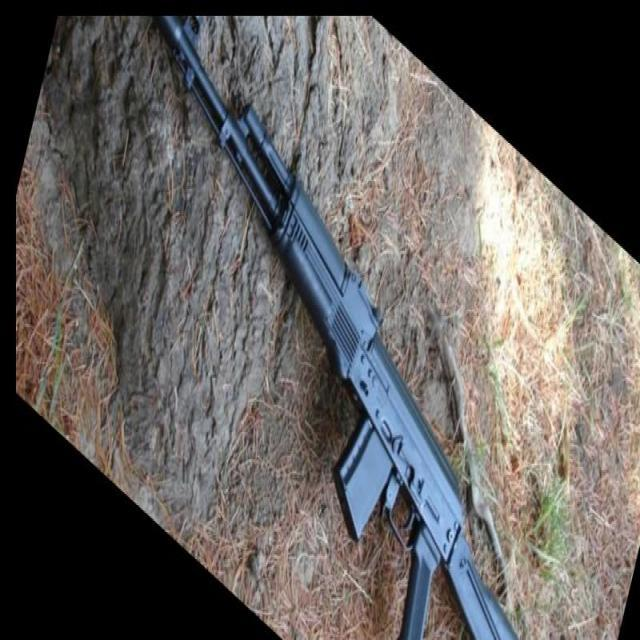weapon: (156, 14, 518, 640)
